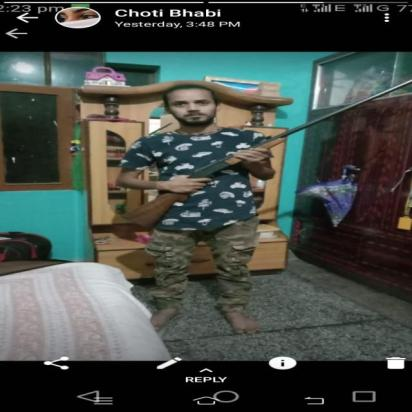Gun: (119, 80, 412, 230)
